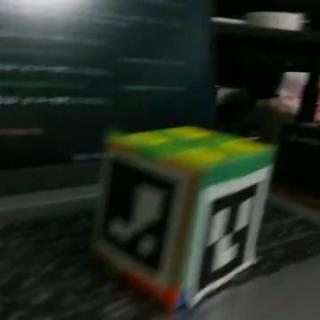armor: (97, 153, 186, 288), (188, 165, 270, 304)
robot: (94, 124, 276, 307)
